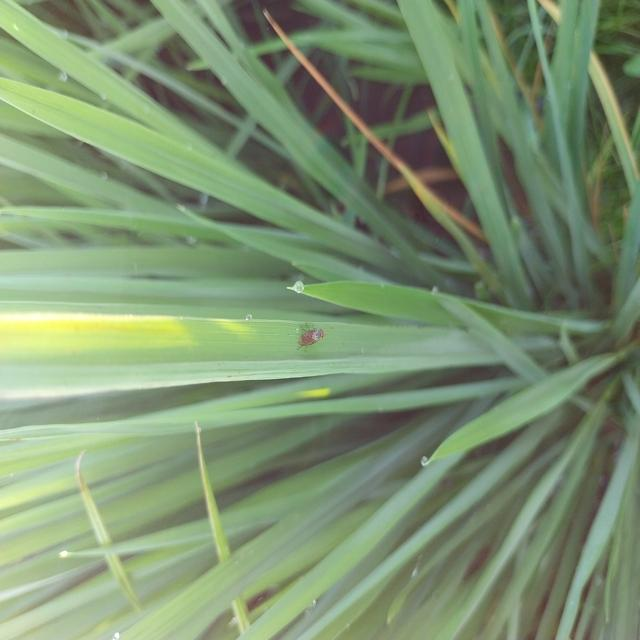healthy: (287, 320, 337, 355)
